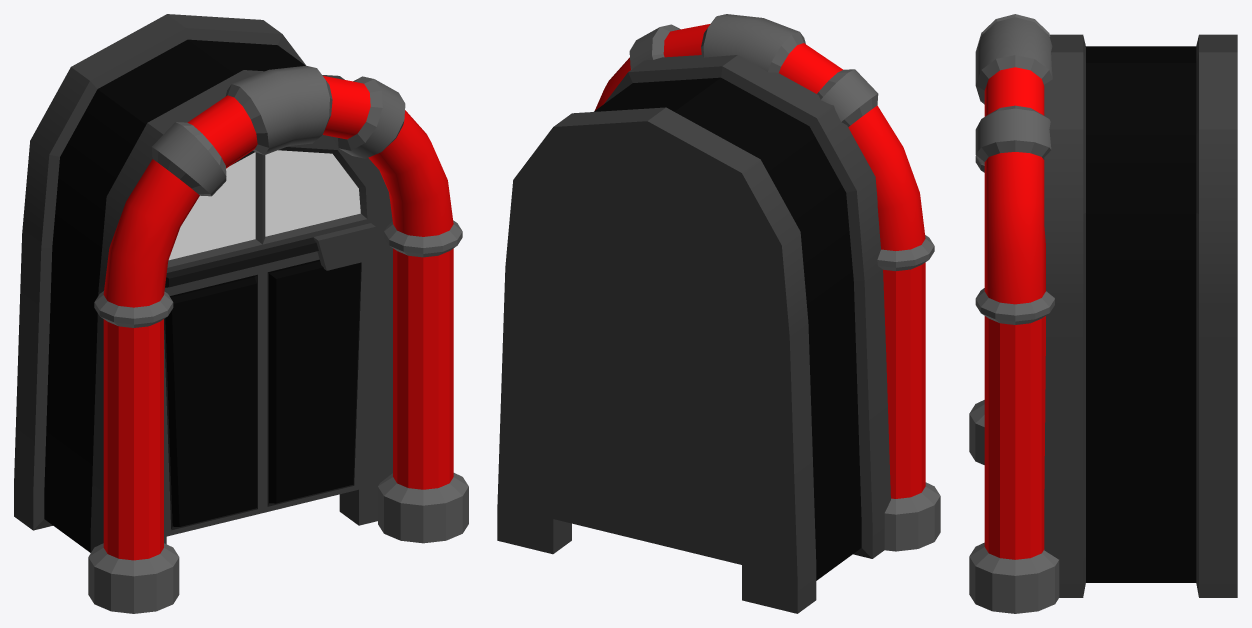
File: Jukebox.fbx
3 renders of one model, left to right at view 1: azimuth 30°, elevation 25°; view 2: azimuth 150°, elevation 25°; view 3: azimuth 270°, elevation 25°, orthographic. The views are drawn at different scales.
Visible parts, largest first — view 1: Torus001; view 2: Torus001; view 3: Torus001.
Boxes of the visible parts, x1=… form: Torus001: x1=14, y1=14, x2=468, y2=613; Torus001: x1=497, y1=14, x2=940, y2=613; Torus001: x1=969, y1=14, x2=1237, y2=613.
Size of the model in its own units: 155 by 196 by 97.
